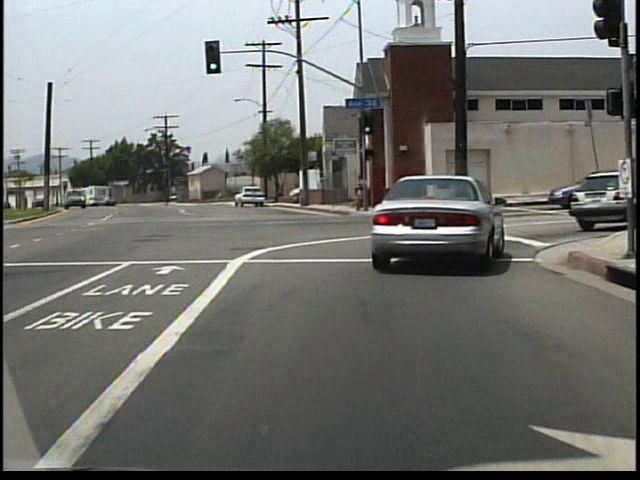person: (352, 173, 367, 212)
